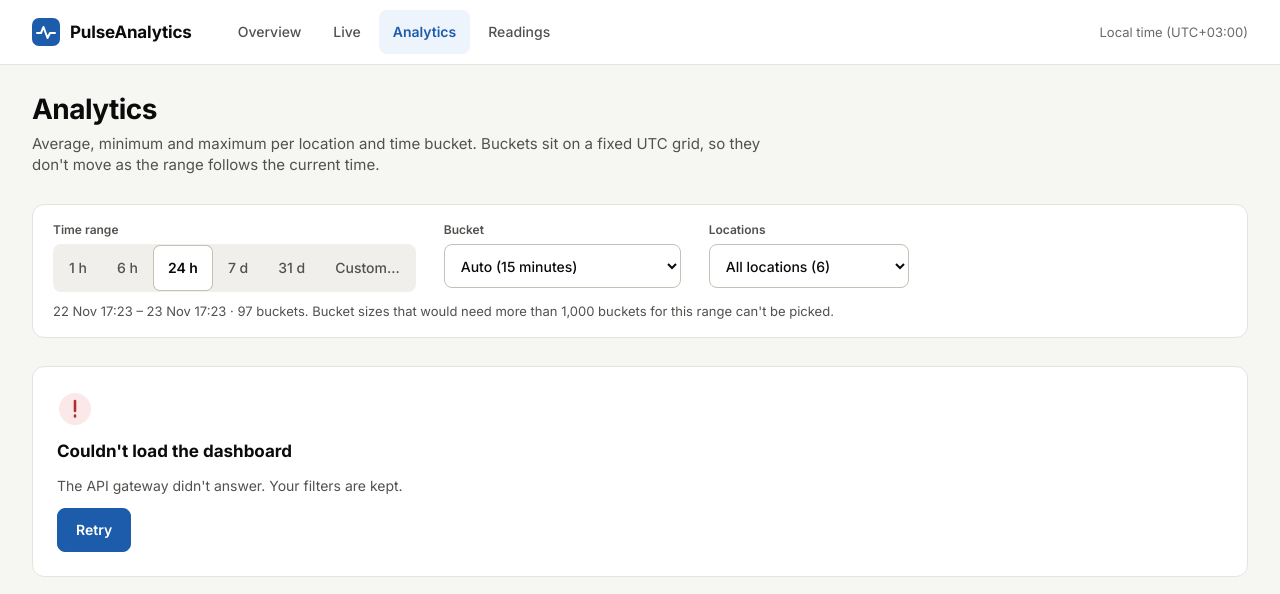
Test: AppLayout › links the brand to the overview
What coordinates should you click on to do the following:
click the link "PulseAnalytics"
I would click on:
 (112, 32)
Its box is [32,10,192,54].
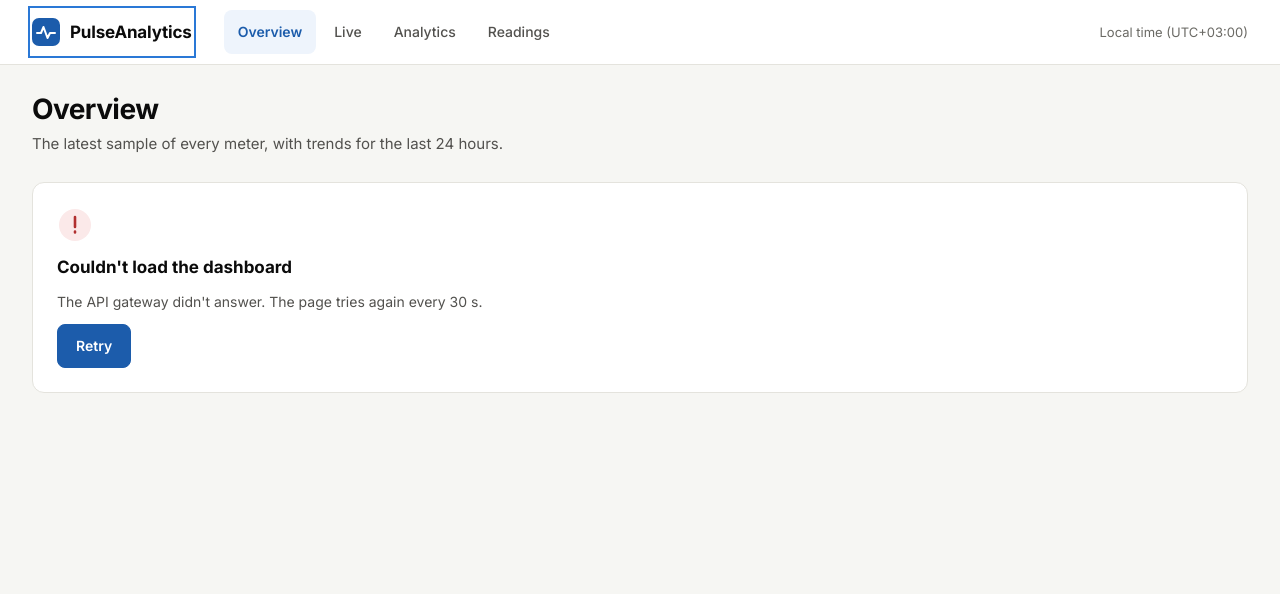
Now the heading "Overview" is shown, box [32,92,158,126]
